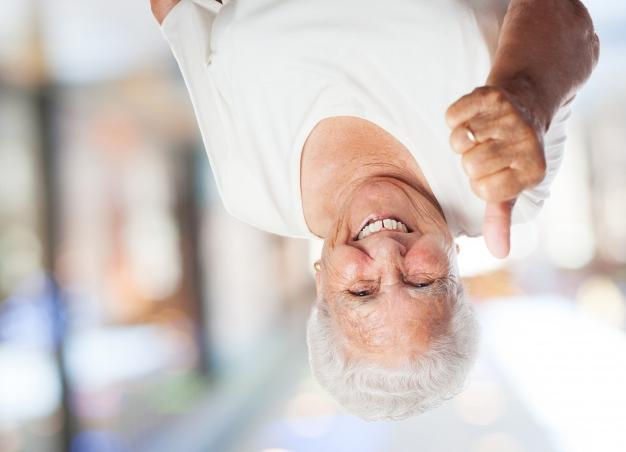thumbsdown: (445, 85, 547, 259)
